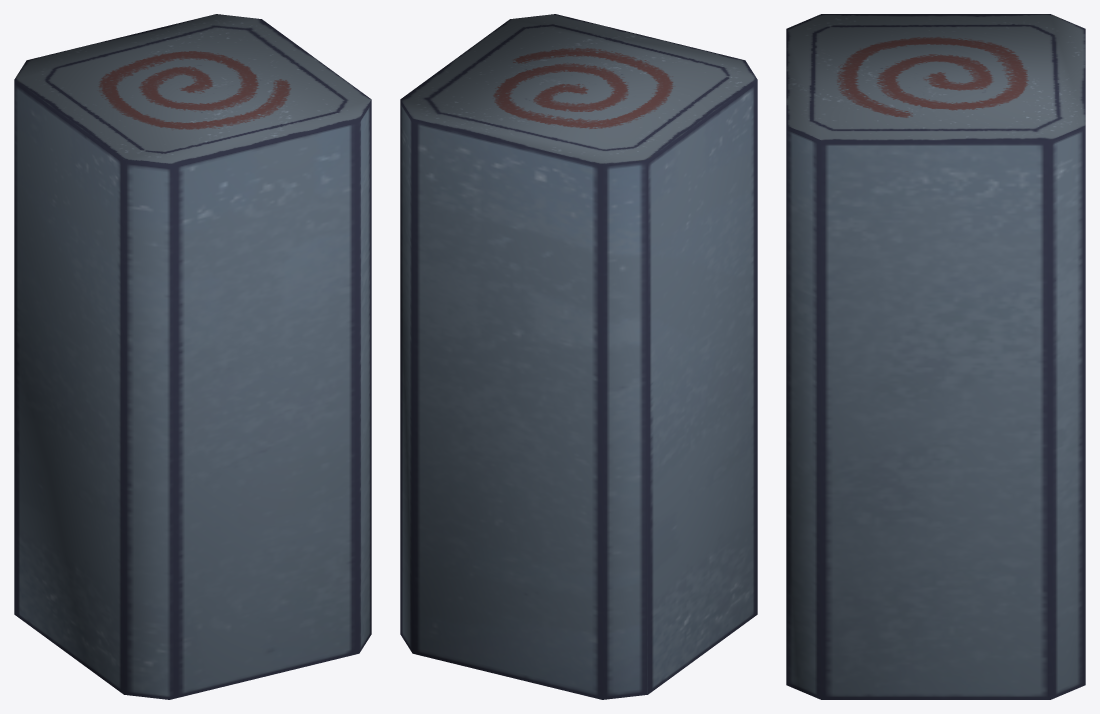
Rendered from Platform_5.glb.
The picture shows the model from 3 angles, left to right: view 1: azimuth 30°, elevation 25°; view 2: azimuth 150°, elevation 25°; view 3: azimuth 270°, elevation 25°; orthographic projection. The views are drawn at different scales.
Parts seen in each view (by area): view 1: Platform_1; view 2: Platform_1; view 3: Platform_1.
Part boxes in pixels (bbox=[...]): Platform_1: bbox=[14, 14, 371, 699]; Platform_1: bbox=[400, 14, 757, 699]; Platform_1: bbox=[786, 14, 1085, 699].
Size of what is drawn, in the model's own units: 1.6 by 3.31 by 1.6.
Materials: 2 (1 with a texture image).
